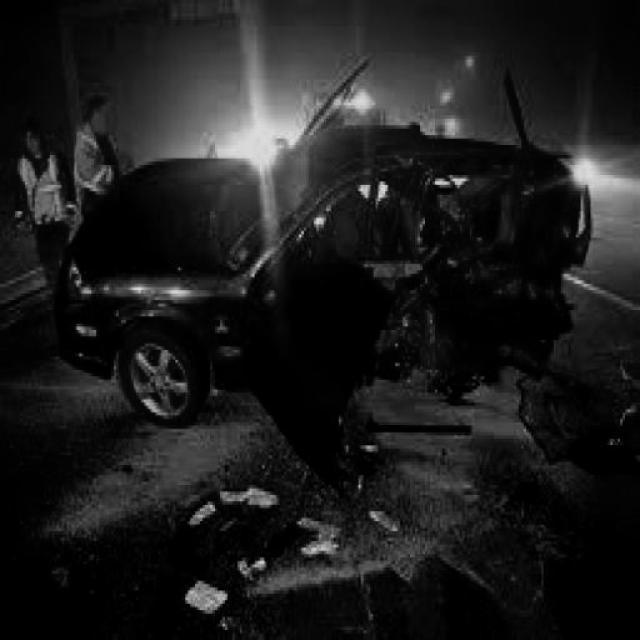car damage: (235, 144, 591, 491)
